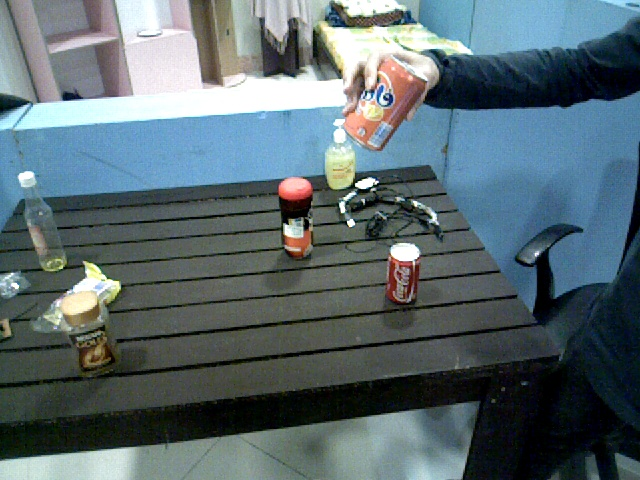coca: (387, 242, 421, 307)
coffee: (60, 293, 120, 380)
cream: (277, 175, 318, 261)
fanta: (340, 52, 424, 152)
